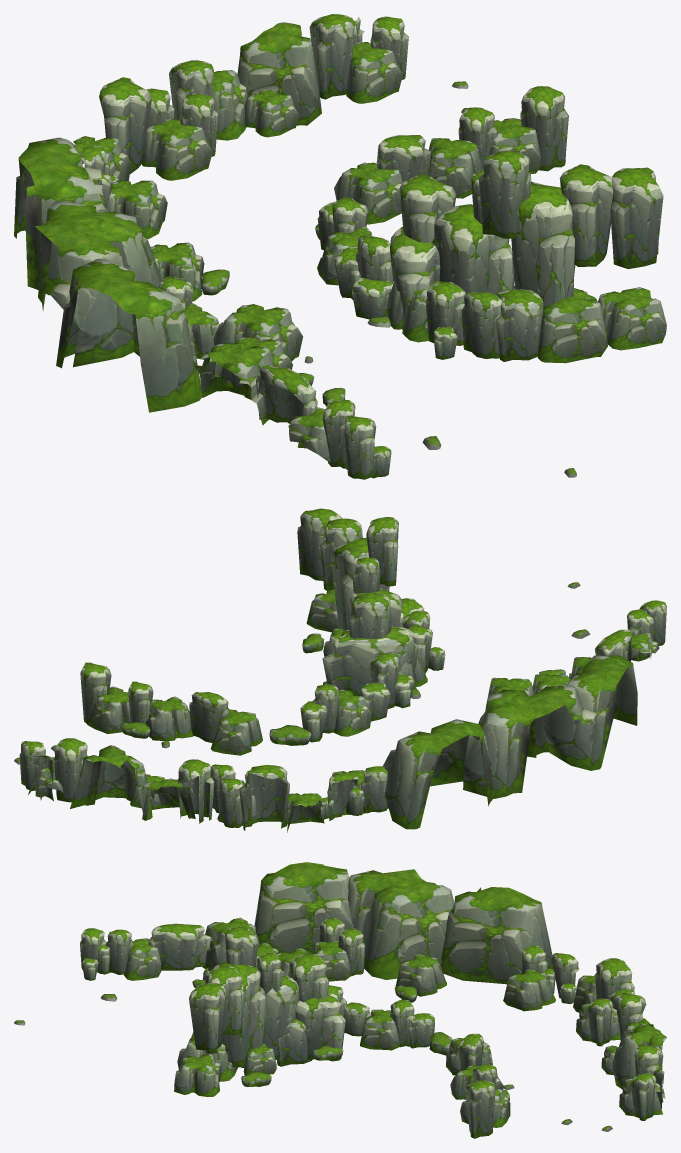
The model's file is lvyanshi_05.fbx.
The picture shows the model from 3 angles, top to bottom: view 1: azimuth 30°, elevation 25°; view 2: azimuth 150°, elevation 25°; view 3: azimuth 270°, elevation 25°; orthographic projection. The views are drawn at different scales.
Parts seen in each view (by area): view 1: polySurface73; view 2: polySurface73; view 3: polySurface73.
Boxes of the visible parts, left/top/right/bottom form: polySurface73: left=14, top=14, right=666, bottom=479; polySurface73: left=14, top=508, right=666, bottom=832; polySurface73: left=14, top=862, right=666, bottom=1138.
Bounding box in the file's own units: 11146 × 3403 × 15091.
